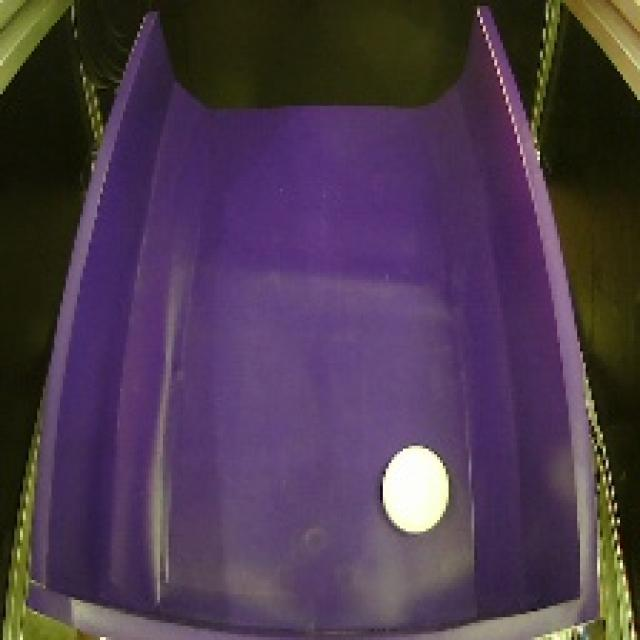small: (377, 444, 458, 538)
